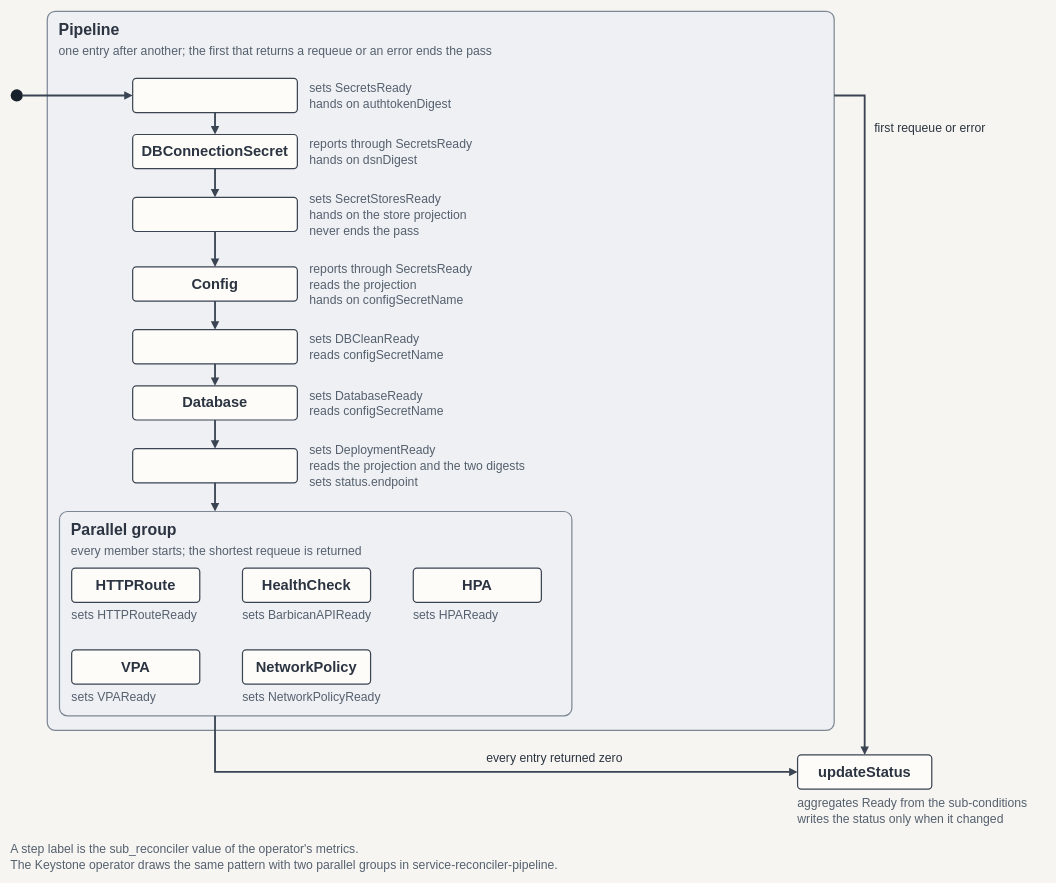
The diagram is 1056 pixels wide and 883 high, and some of its shapes have lost their labels. The shapes that lost their labels are listed below. From the top down, each one's centre as x and y in pixels, then its label:
the point at 215,95: Secrets
the point at 215,214: SecretStores
the point at 215,346: DBClean
the point at 215,465: Deployment
